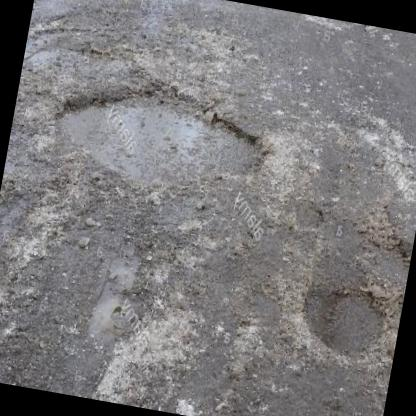pothole: (44, 60, 282, 209), (296, 276, 394, 362), (80, 242, 158, 347)
